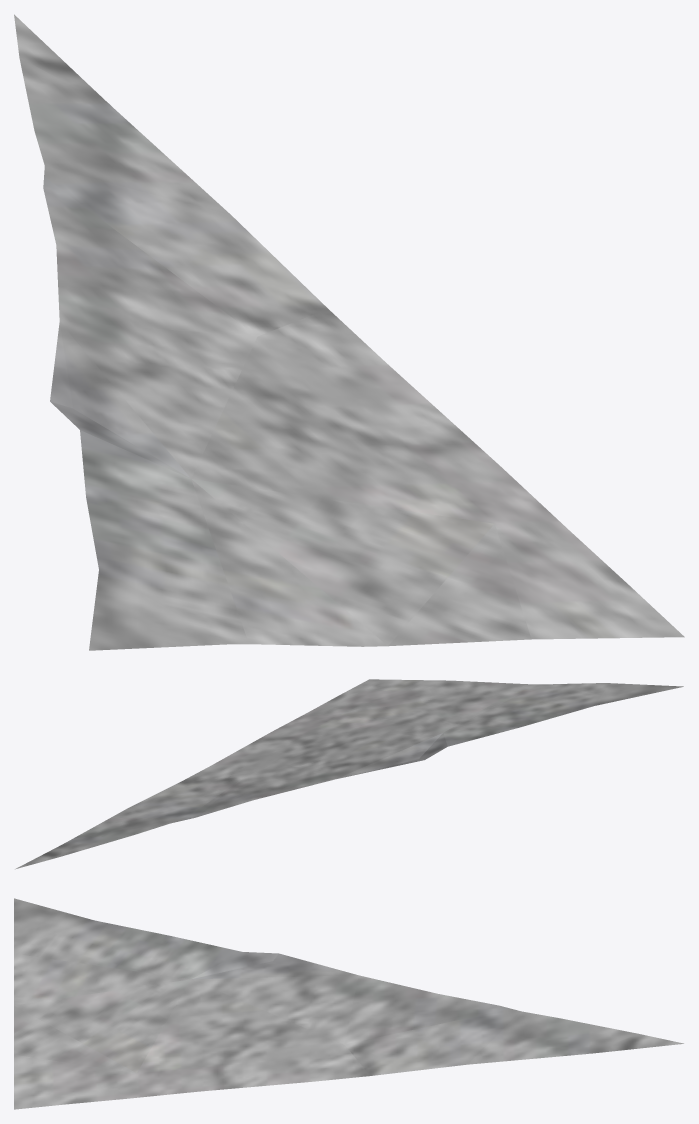
3 renders of one model, top to bottom at view 1: azimuth 30°, elevation 25°; view 2: azimuth 150°, elevation 25°; view 3: azimuth 270°, elevation 25°, orthographic. The views are drawn at different scales.
Bounding box in the file's own units: 0.4113 × 0.0869 × 0.8021.
Materials: 1 (1 with a texture image).
